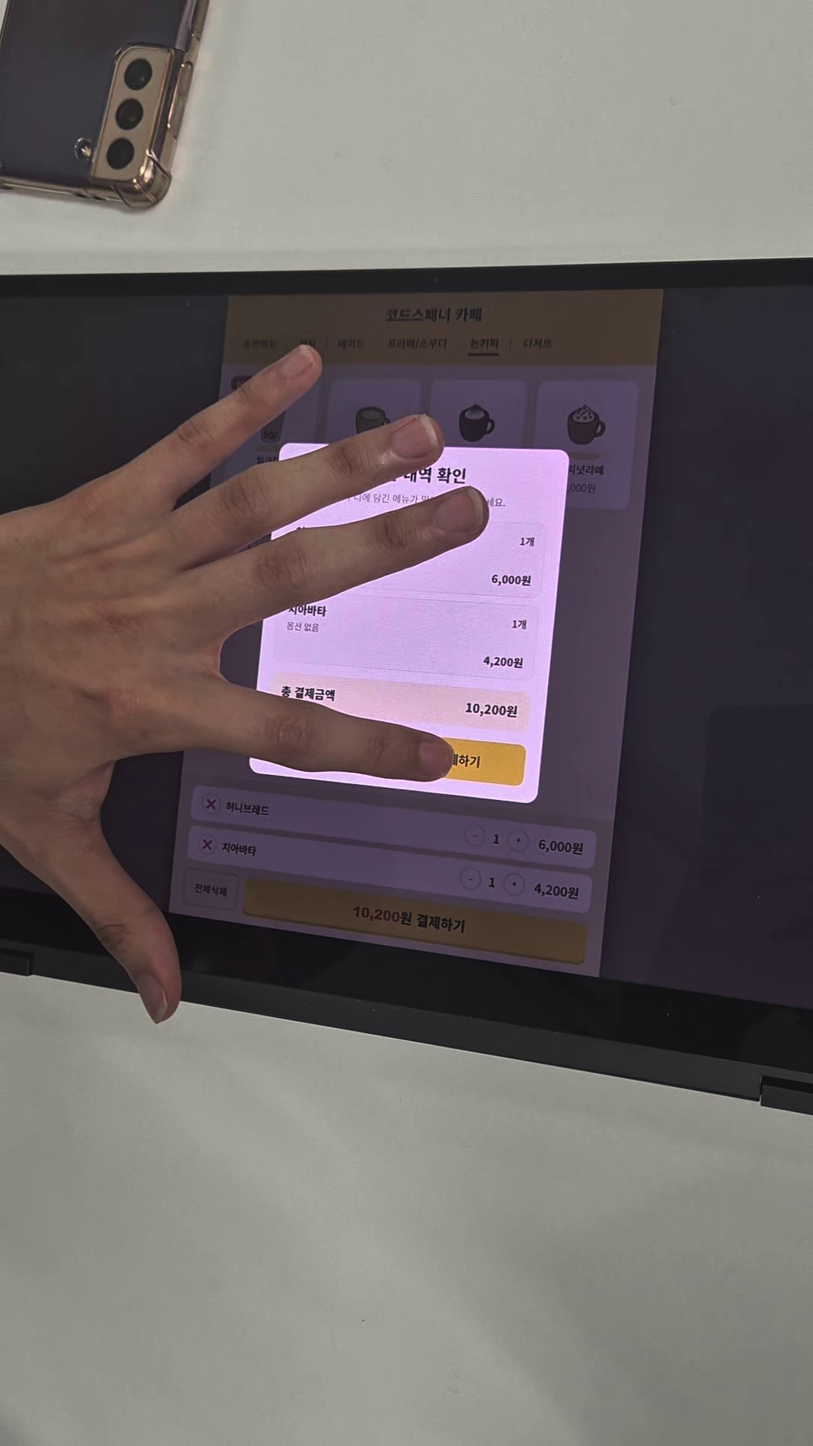action_button: (243, 876, 587, 965), (389, 732, 527, 786), (184, 868, 237, 910)
cart_item: (188, 825, 594, 914), (190, 782, 598, 870)
category_tab: (383, 336, 448, 350), (244, 338, 277, 350), (336, 336, 366, 349), (469, 337, 499, 349), (523, 337, 553, 349)
popup_modal: (248, 442, 569, 804)
